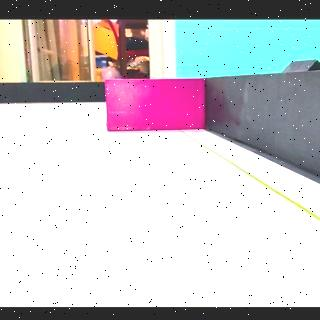xparking: (108, 80, 200, 130)
